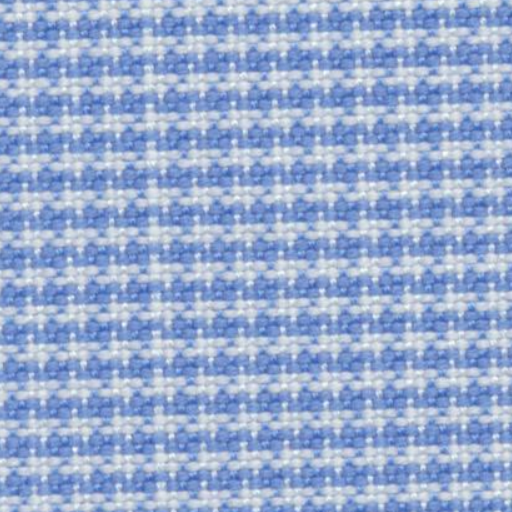TuoSha: (121, 18, 204, 494)
